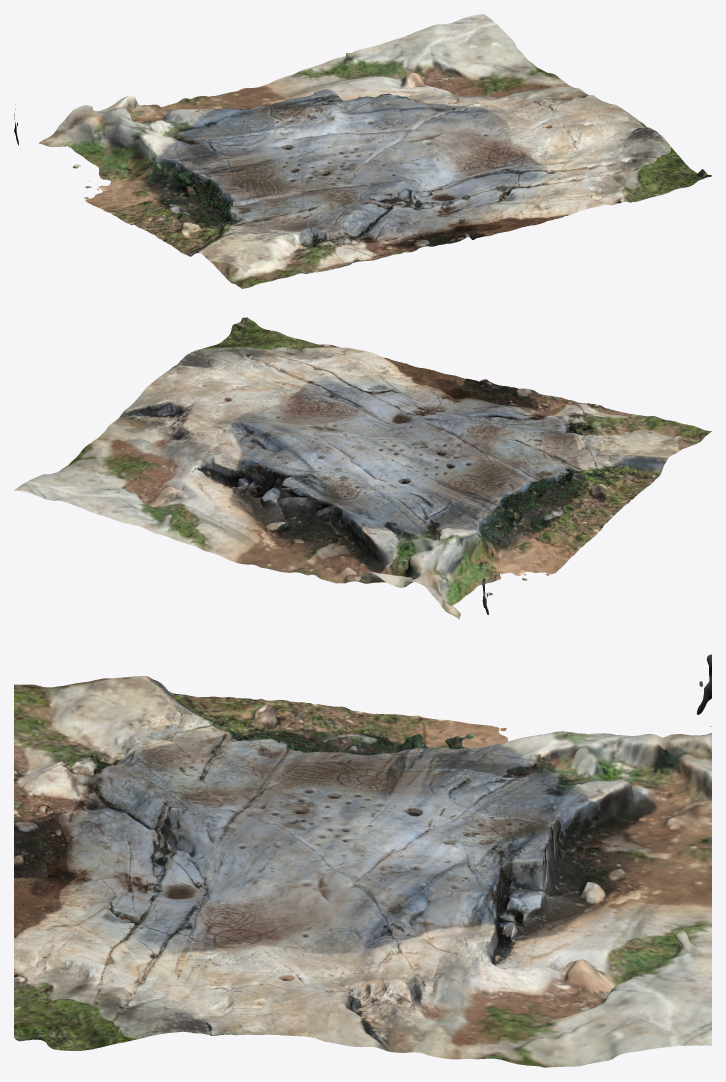
Rendered from dalle-04.glb.
3 renders of one model, top to bottom at view 1: azimuth 30°, elevation 25°; view 2: azimuth 150°, elevation 25°; view 3: azimuth 270°, elevation 25°, orthographic. The views are drawn at different scales.
Visible parts, largest first — view 1: Node1; view 2: Node1; view 3: Node1.
Boxes of the visible parts, left/top/right/bottom form: Node1: left=14, top=14, right=711, bottom=288; Node1: left=14, top=317, right=711, bottom=618; Node1: left=14, top=654, right=711, bottom=1067.
Size of the model in its own units: 2.44 by 0.233 by 2.05.
1 material, 1 textured.
